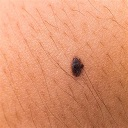Melanoma: (69, 55, 86, 78)
